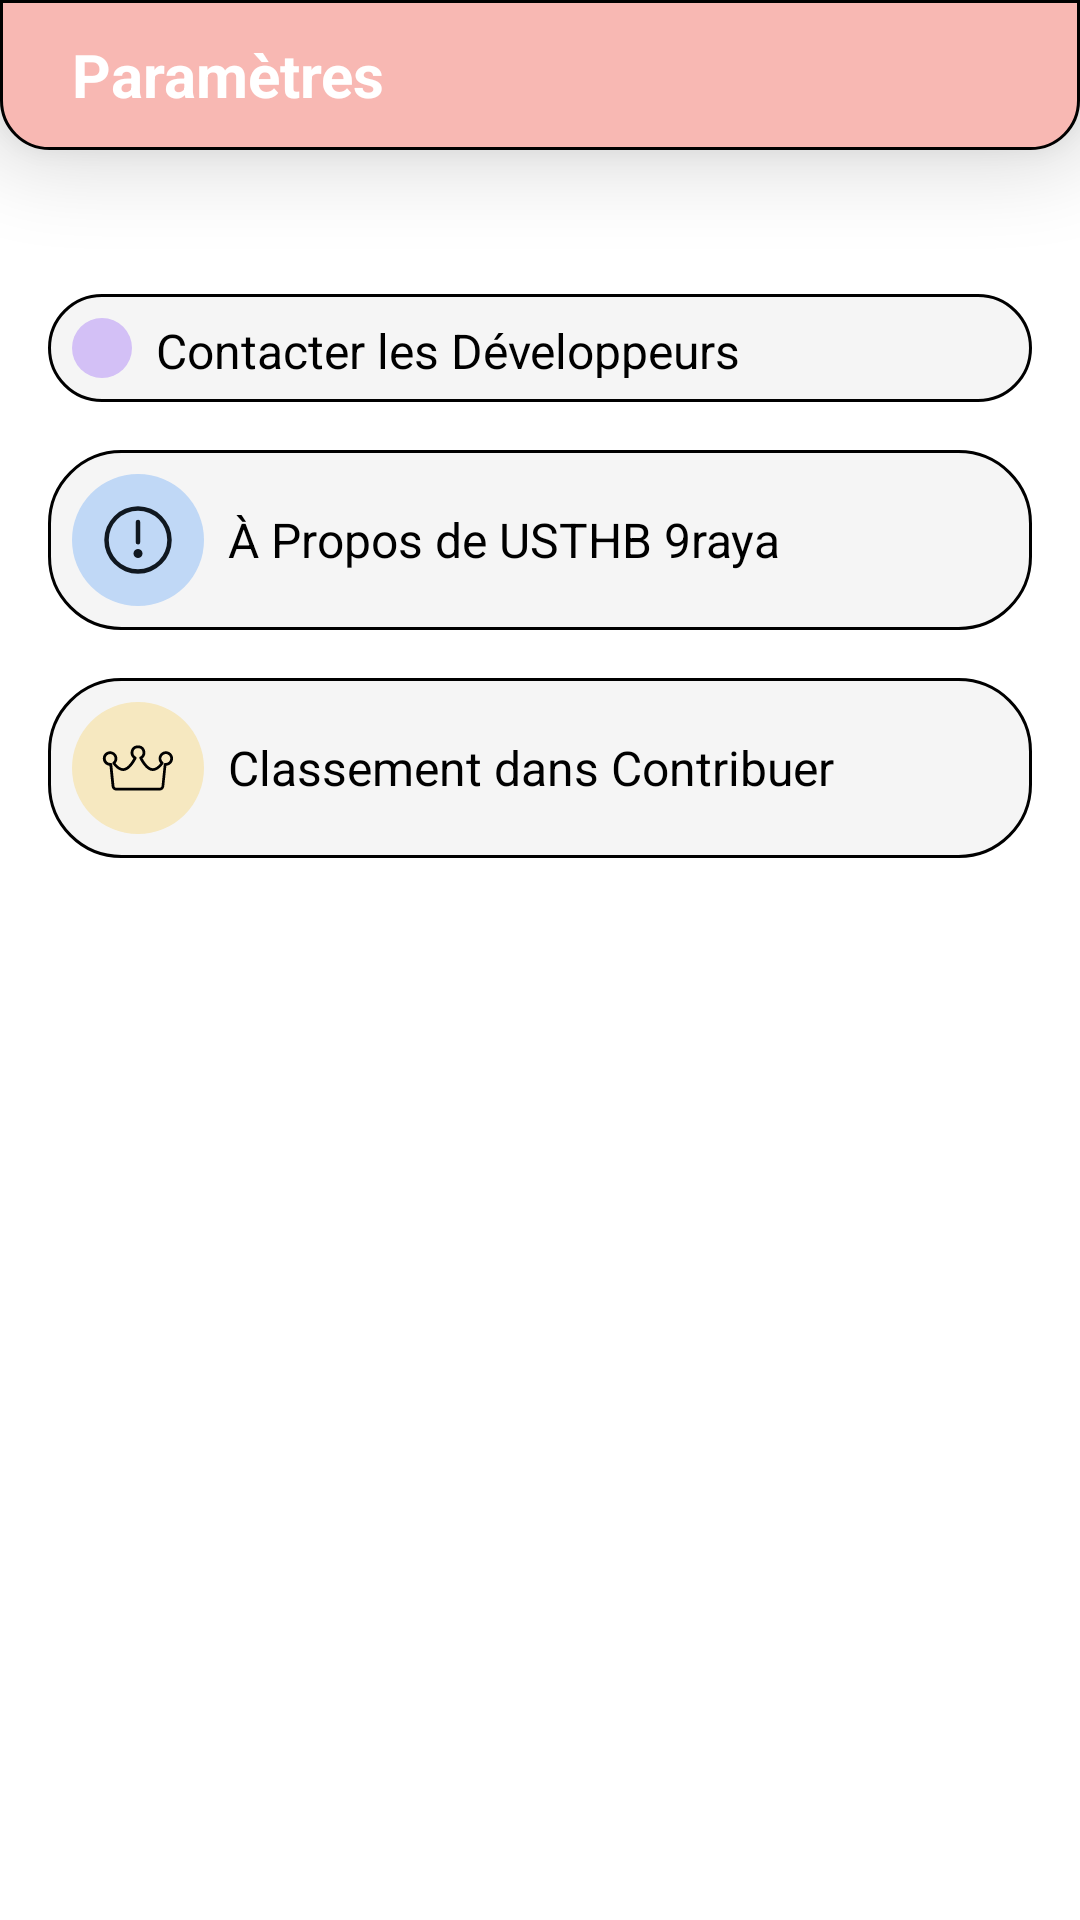

Screen size 1080w x 1920h. Icon name, then its center in pixels as [x,y]:
exclamation: [138,540]
king: [138,768]
